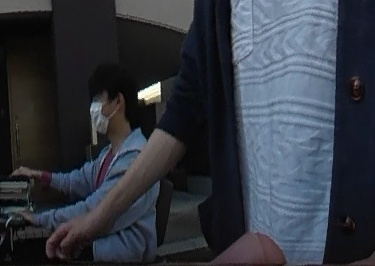person: (16, 61, 160, 266)
